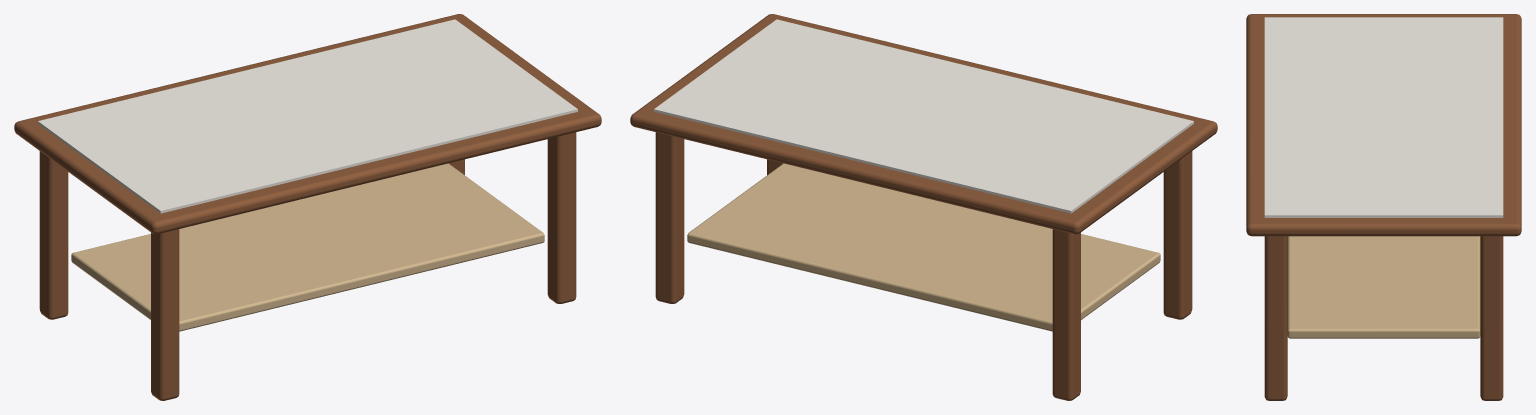
3 views of the same model, side by side, from view 1: azimuth 30°, elevation 25°; view 2: azimuth 150°, elevation 25°; view 3: azimuth 270°, elevation 25° (orthographic). The views are drawn at different scales.
Visible parts, largest first — view 1: marble, shelf, top; view 2: marble, shelf, top; view 3: marble, top, shelf.
Boxes of the visible parts, left/top/right/bottom form: marble: left=38, top=19, right=577, bottom=213; shelf: left=71, top=163, right=544, bottom=331; top: left=14, top=14, right=601, bottom=400; marble: left=654, top=19, right=1193, bottom=213; shelf: left=687, top=163, right=1160, bottom=331; top: left=630, top=14, right=1217, bottom=400; marble: left=1264, top=17, right=1503, bottom=217; top: left=1246, top=14, right=1521, bottom=400; shelf: left=1287, top=236, right=1480, bottom=338.
Size of the model in its own units: 1.1 by 0.45 by 0.6.
